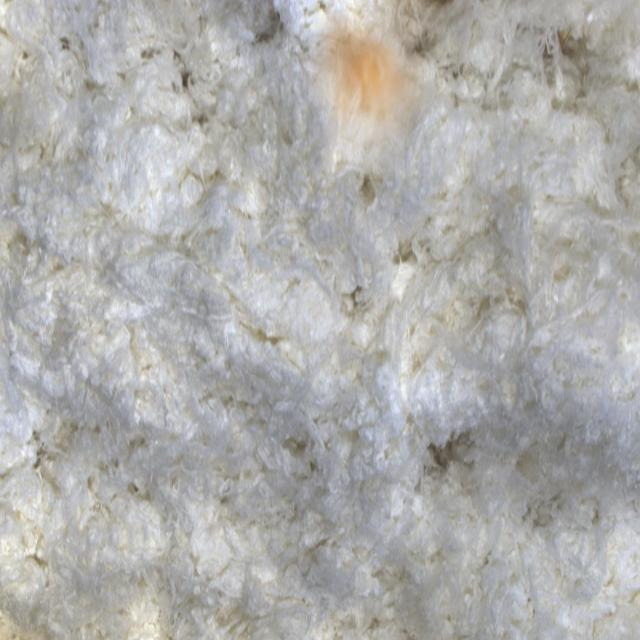dust: (299, 10, 431, 179)
